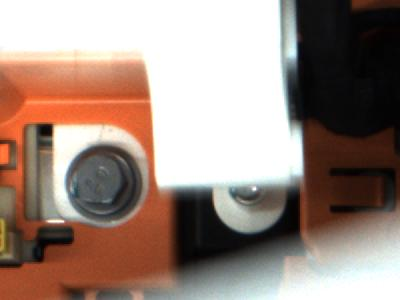nut_b: (59, 141, 144, 221)
